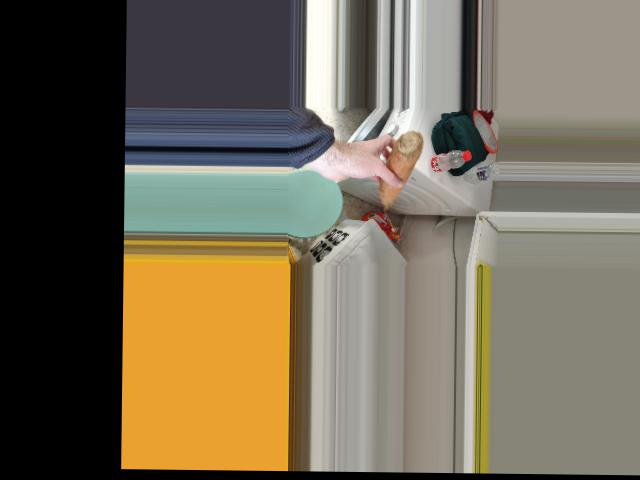sweet_potato: (372, 135, 426, 204)
